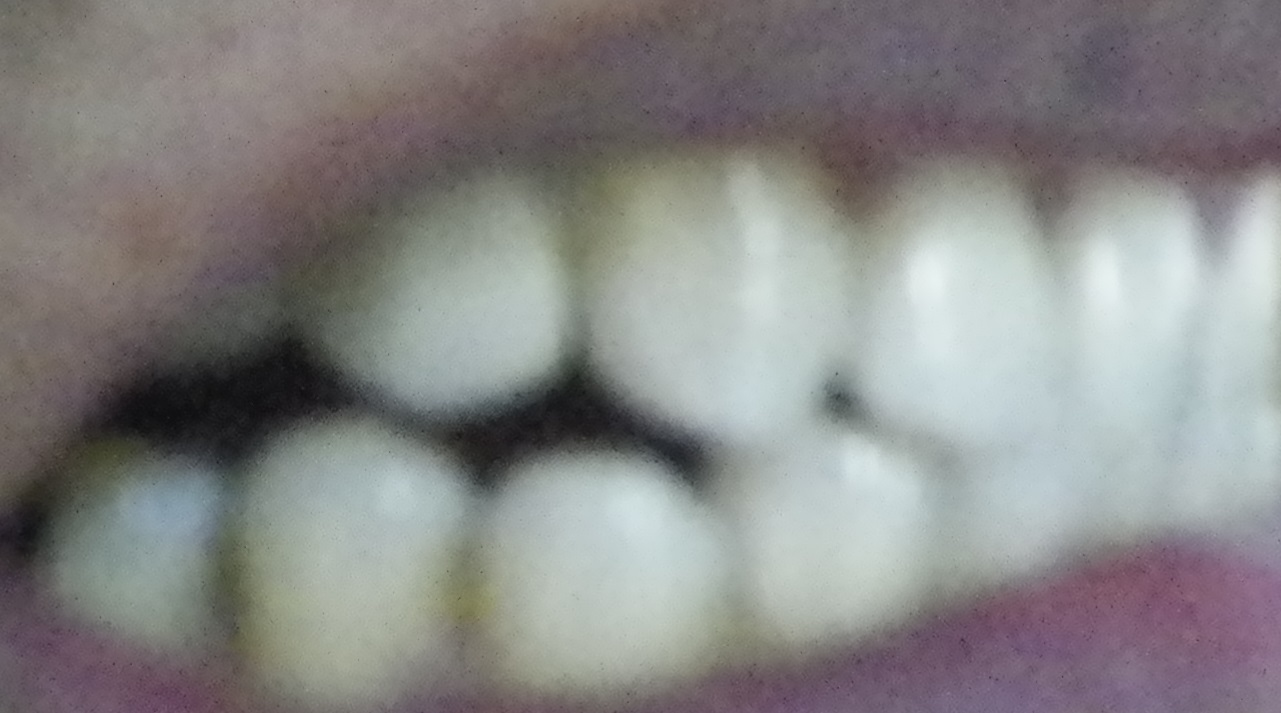boca: (58, 179, 1271, 683)
